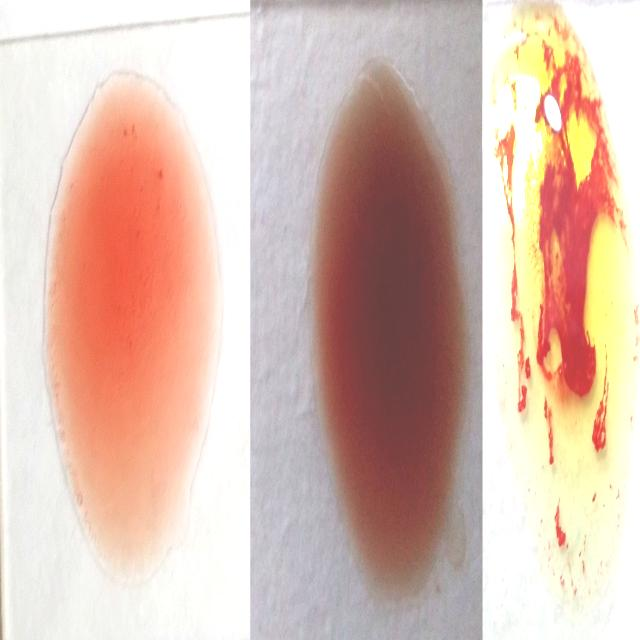B: (497, 7, 633, 582)
